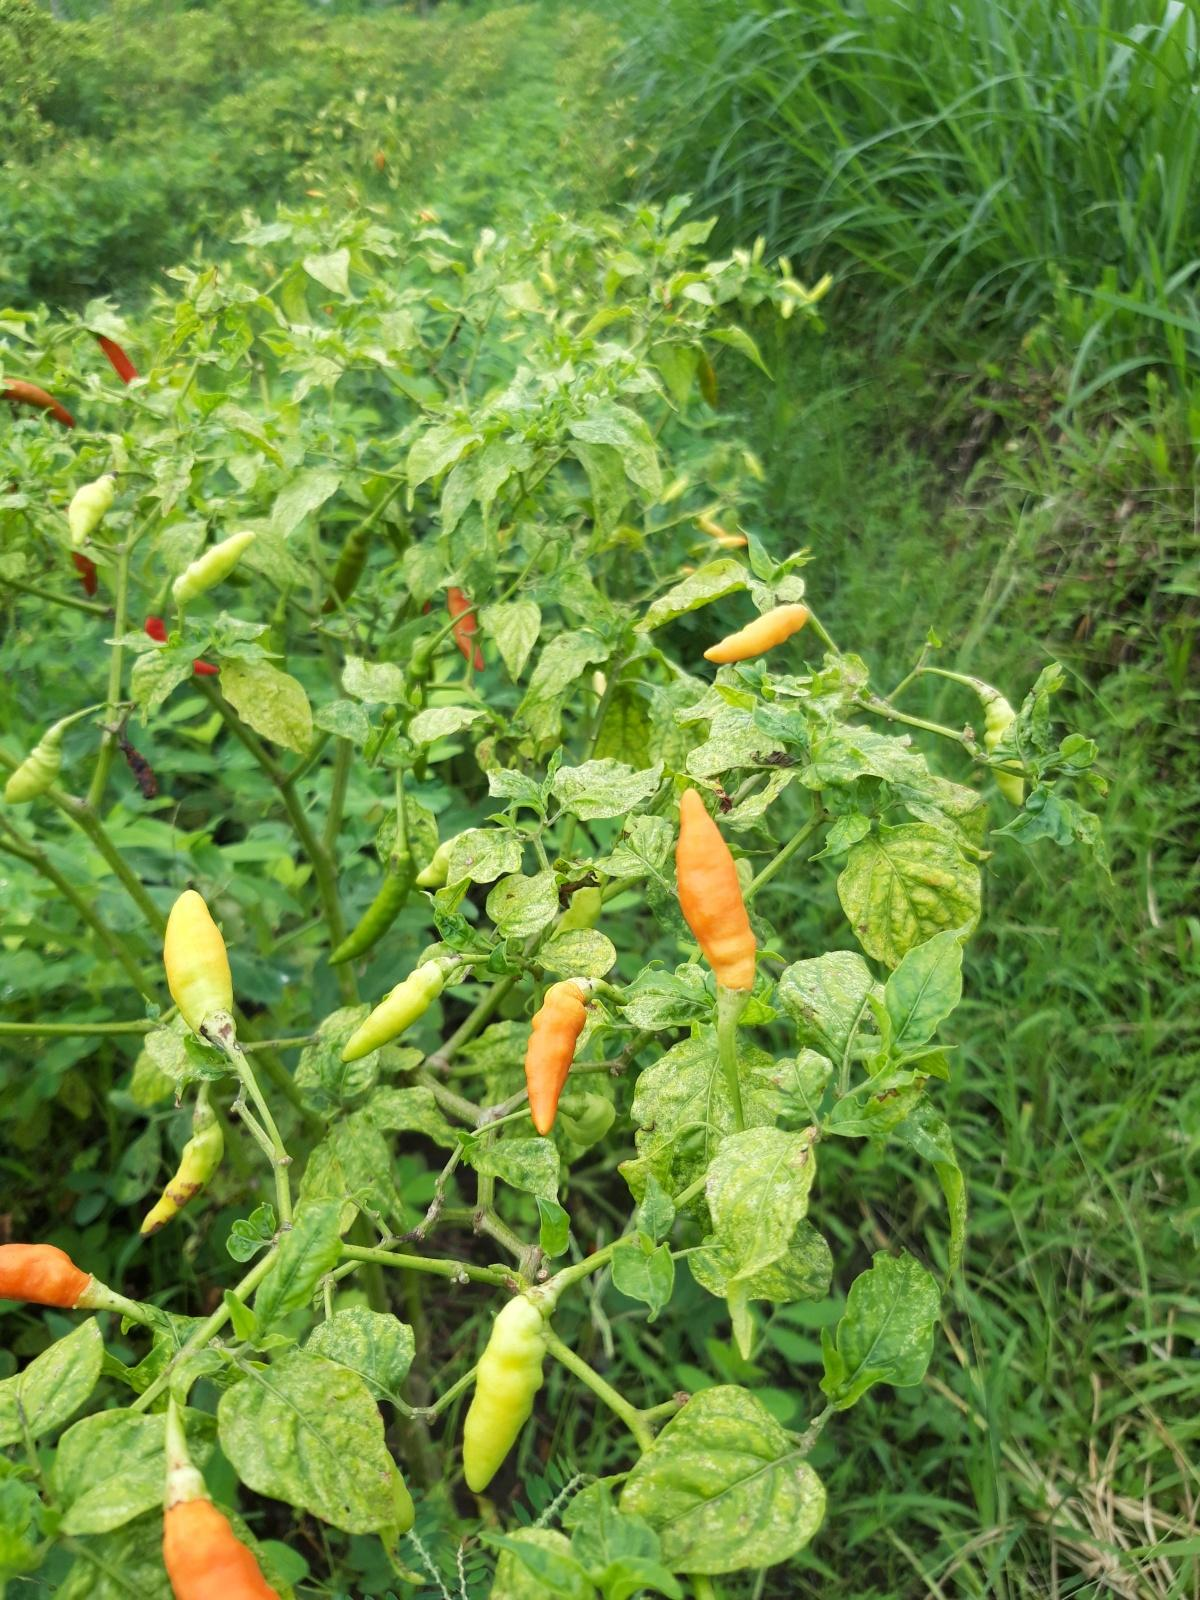cabai_normal: (676, 787, 758, 994), (463, 1293, 547, 1493), (339, 960, 442, 1062), (522, 980, 586, 1136), (140, 1119, 224, 1236), (164, 889, 232, 1028), (702, 603, 808, 661), (174, 530, 256, 601), (983, 697, 1027, 805), (147, 615, 221, 677), (0, 375, 77, 431), (444, 582, 492, 670), (67, 472, 115, 546), (91, 336, 142, 388), (73, 548, 100, 598)
